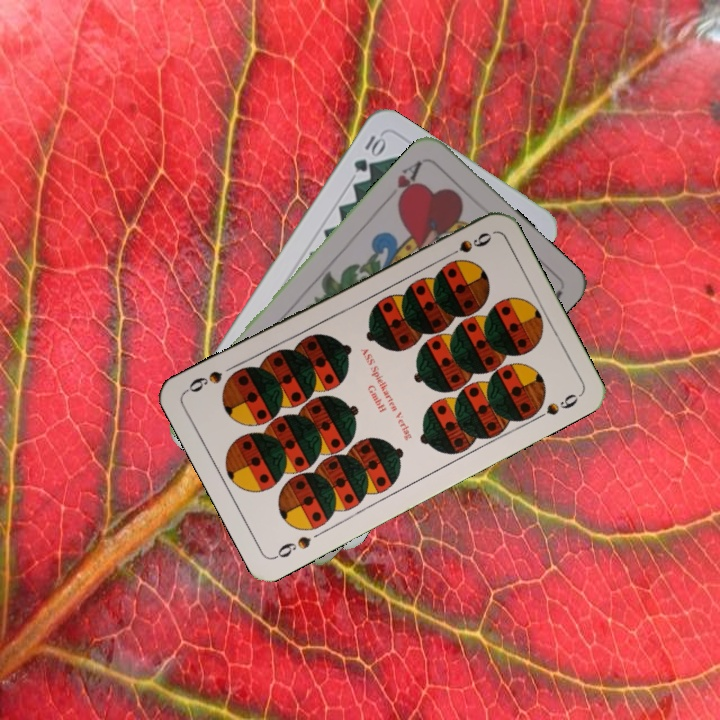G10: (349, 130, 388, 175)
HA: (392, 156, 425, 209)
S9: (439, 228, 494, 262), (270, 532, 314, 562)
